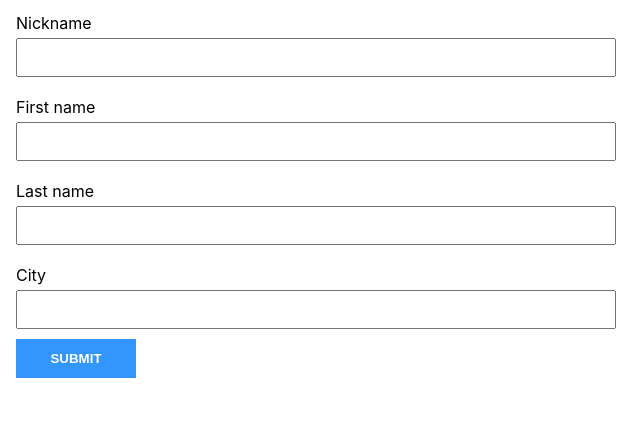
Test: renders validation for nickname
Click the button "Submit" at (76, 358), box [16,339,136,378]
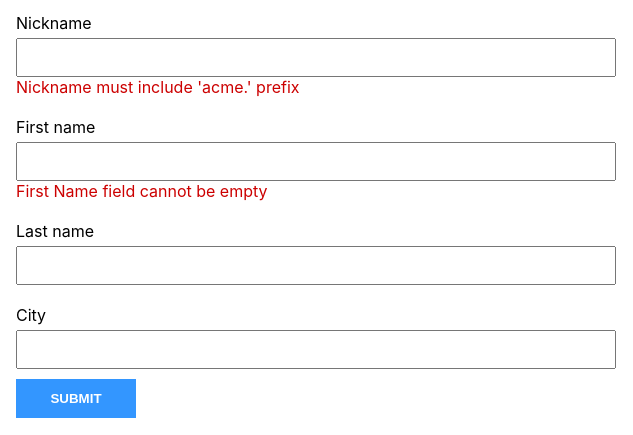
Expected: the text "Nickname must include 'acme.' prefix" is shown, [16,77,300,97]
Type "acme.nick" into the field labelled "Nickname Nickname must include 'acme.' prefix" at (316, 58), box [16,38,616,77]
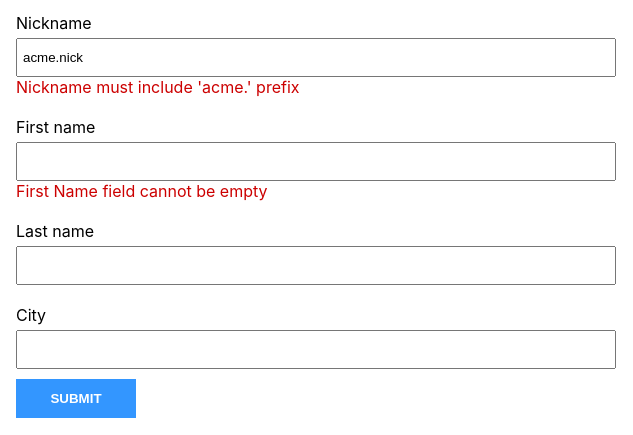
Click the button "Submit" at (76, 398), box [16,379,136,418]
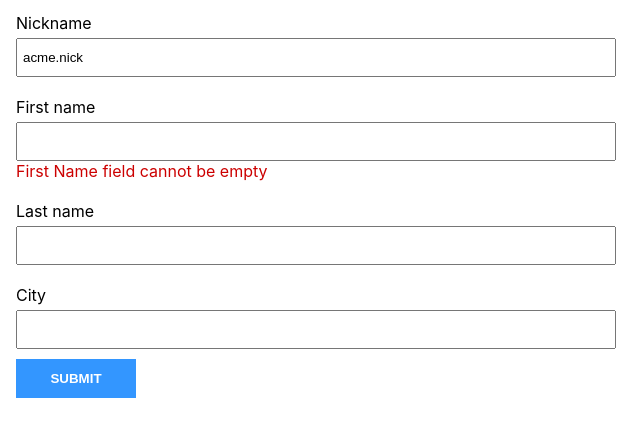
Expected: the text "Nickname must include 'acme.' prefix" is gone
